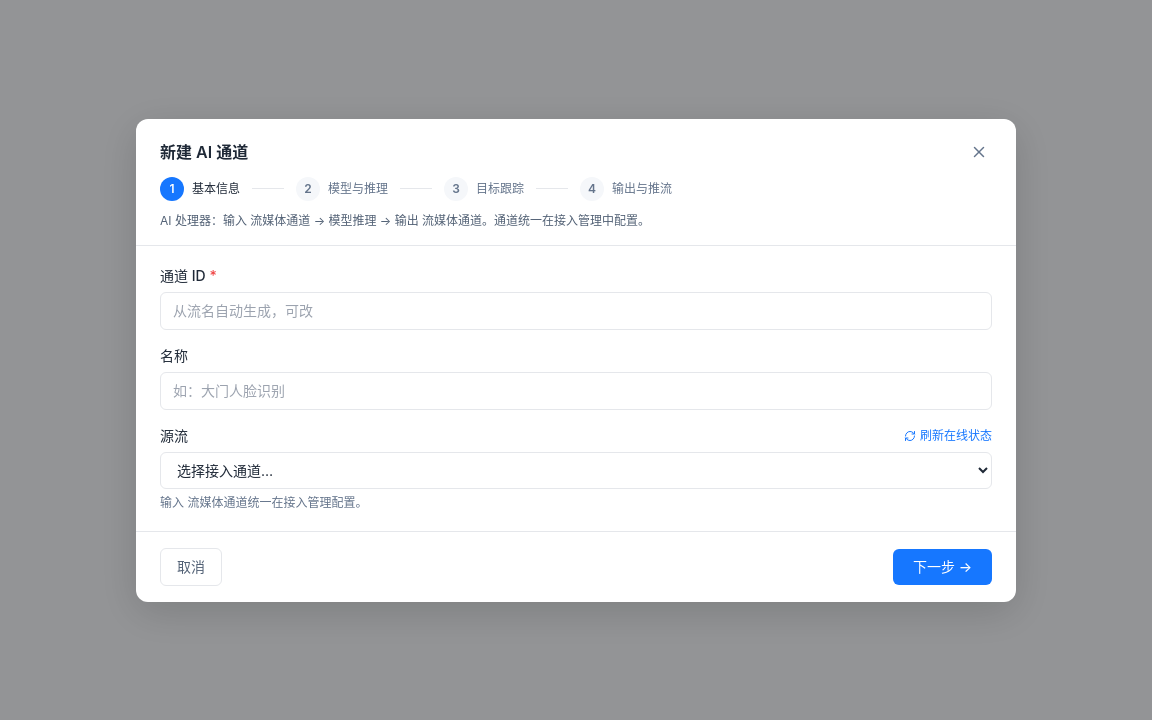
it: AiChannelWizard › 第①步：id 不合法时点击下一步被拦下，不进入第②步
Type "带 空格" into the field with test id "wizard-id".
click(576, 310); type("带 空格")  # box [160, 292, 992, 330]
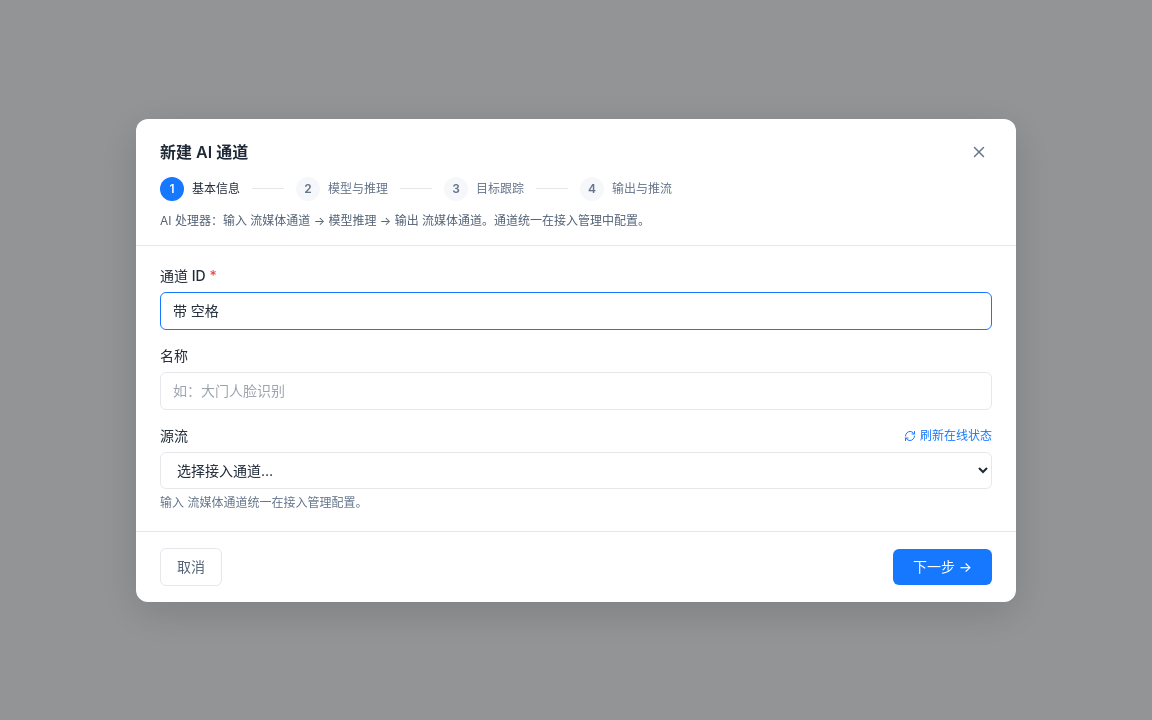
Select "大门口（live/phase6_test） · 离线" in the dropdown with test id "wizard-stream-select" at (576, 470), box [160, 452, 992, 488]
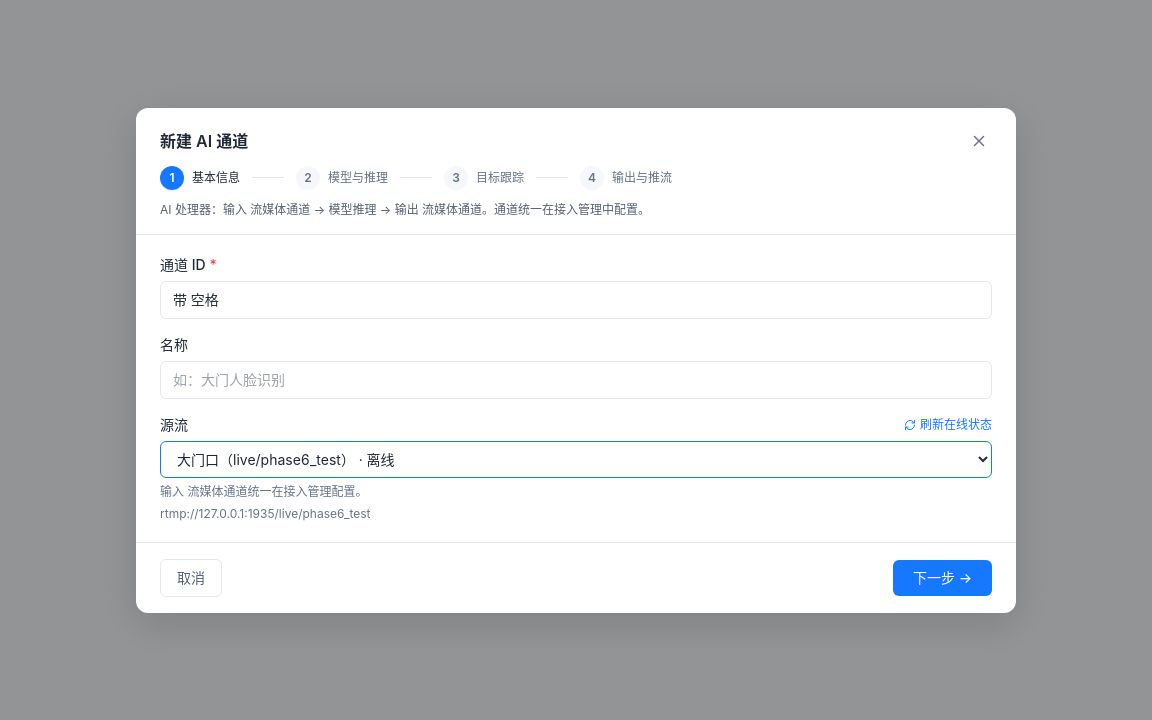
Click the button "下一步 →".
click(942, 578)  # box [893, 560, 992, 596]
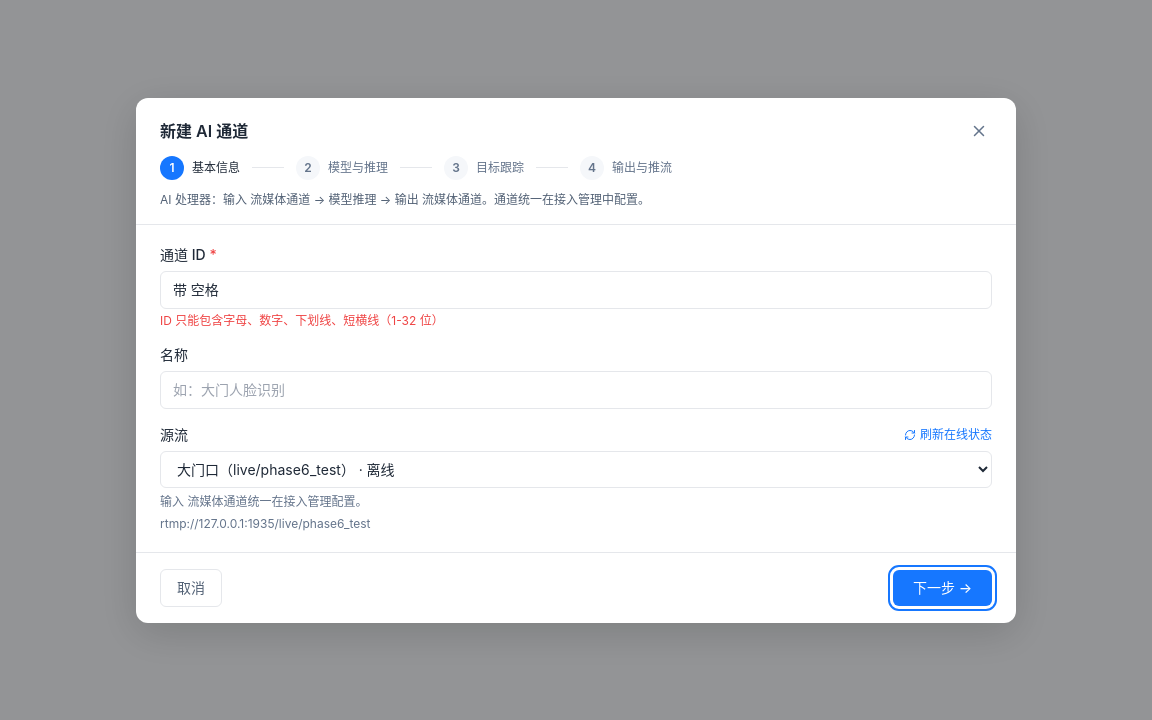
Expected: the text "ID 只能包含字母、数字、下划线、短横线（1-32 位）" is shown, [160, 312, 444, 328]
